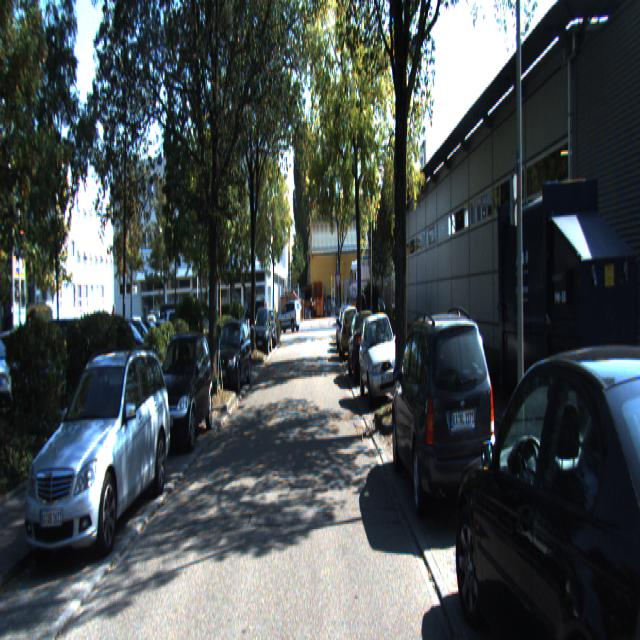Car: (458, 316, 640, 638), (26, 345, 173, 570), (390, 304, 500, 544), (150, 327, 213, 458), (358, 309, 404, 410), (212, 318, 253, 398), (346, 310, 382, 388), (338, 300, 360, 358), (252, 307, 272, 357), (276, 300, 302, 328)
